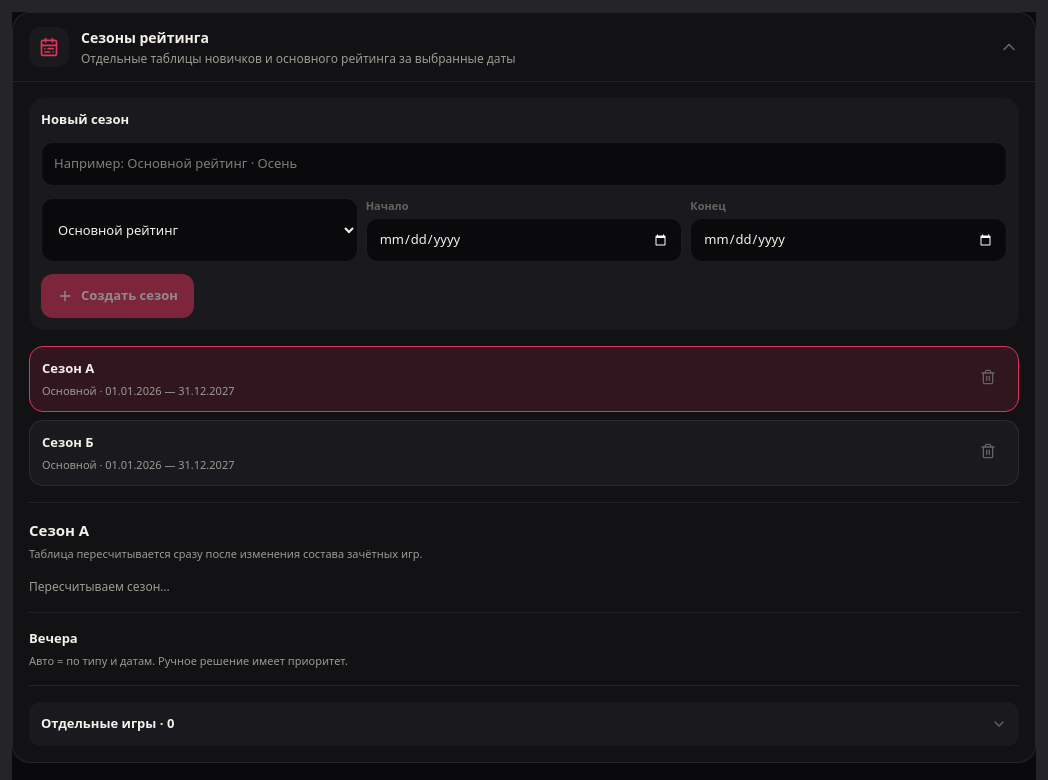
Test: CRM rating season request isolation › keeps B standings and inclusion controls when A responds after B
Click the button "Сезон Б Основной · 01.01.2026 — 31.12.2027" at (68, 442), box [42,433,962,473]
(page scrolled)
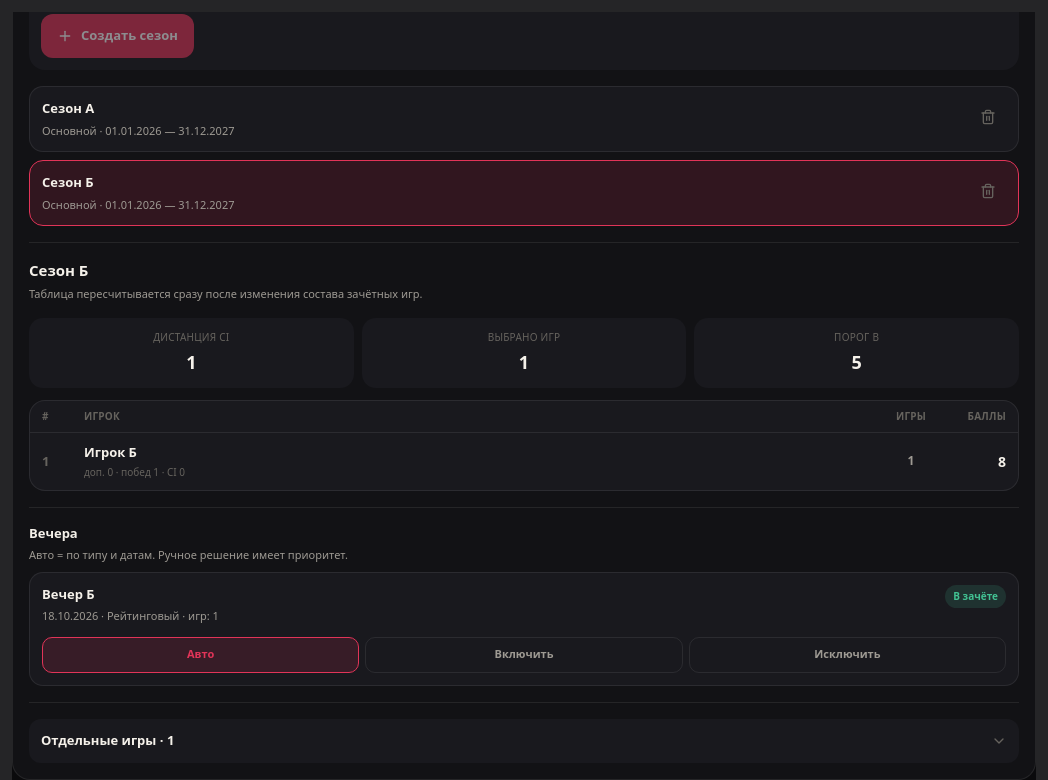
Check: the text "Игрок Б" is shown, box [84,443,137,461]
Check: the text "Вечер Б" is shown, box [42,584,94,602]
